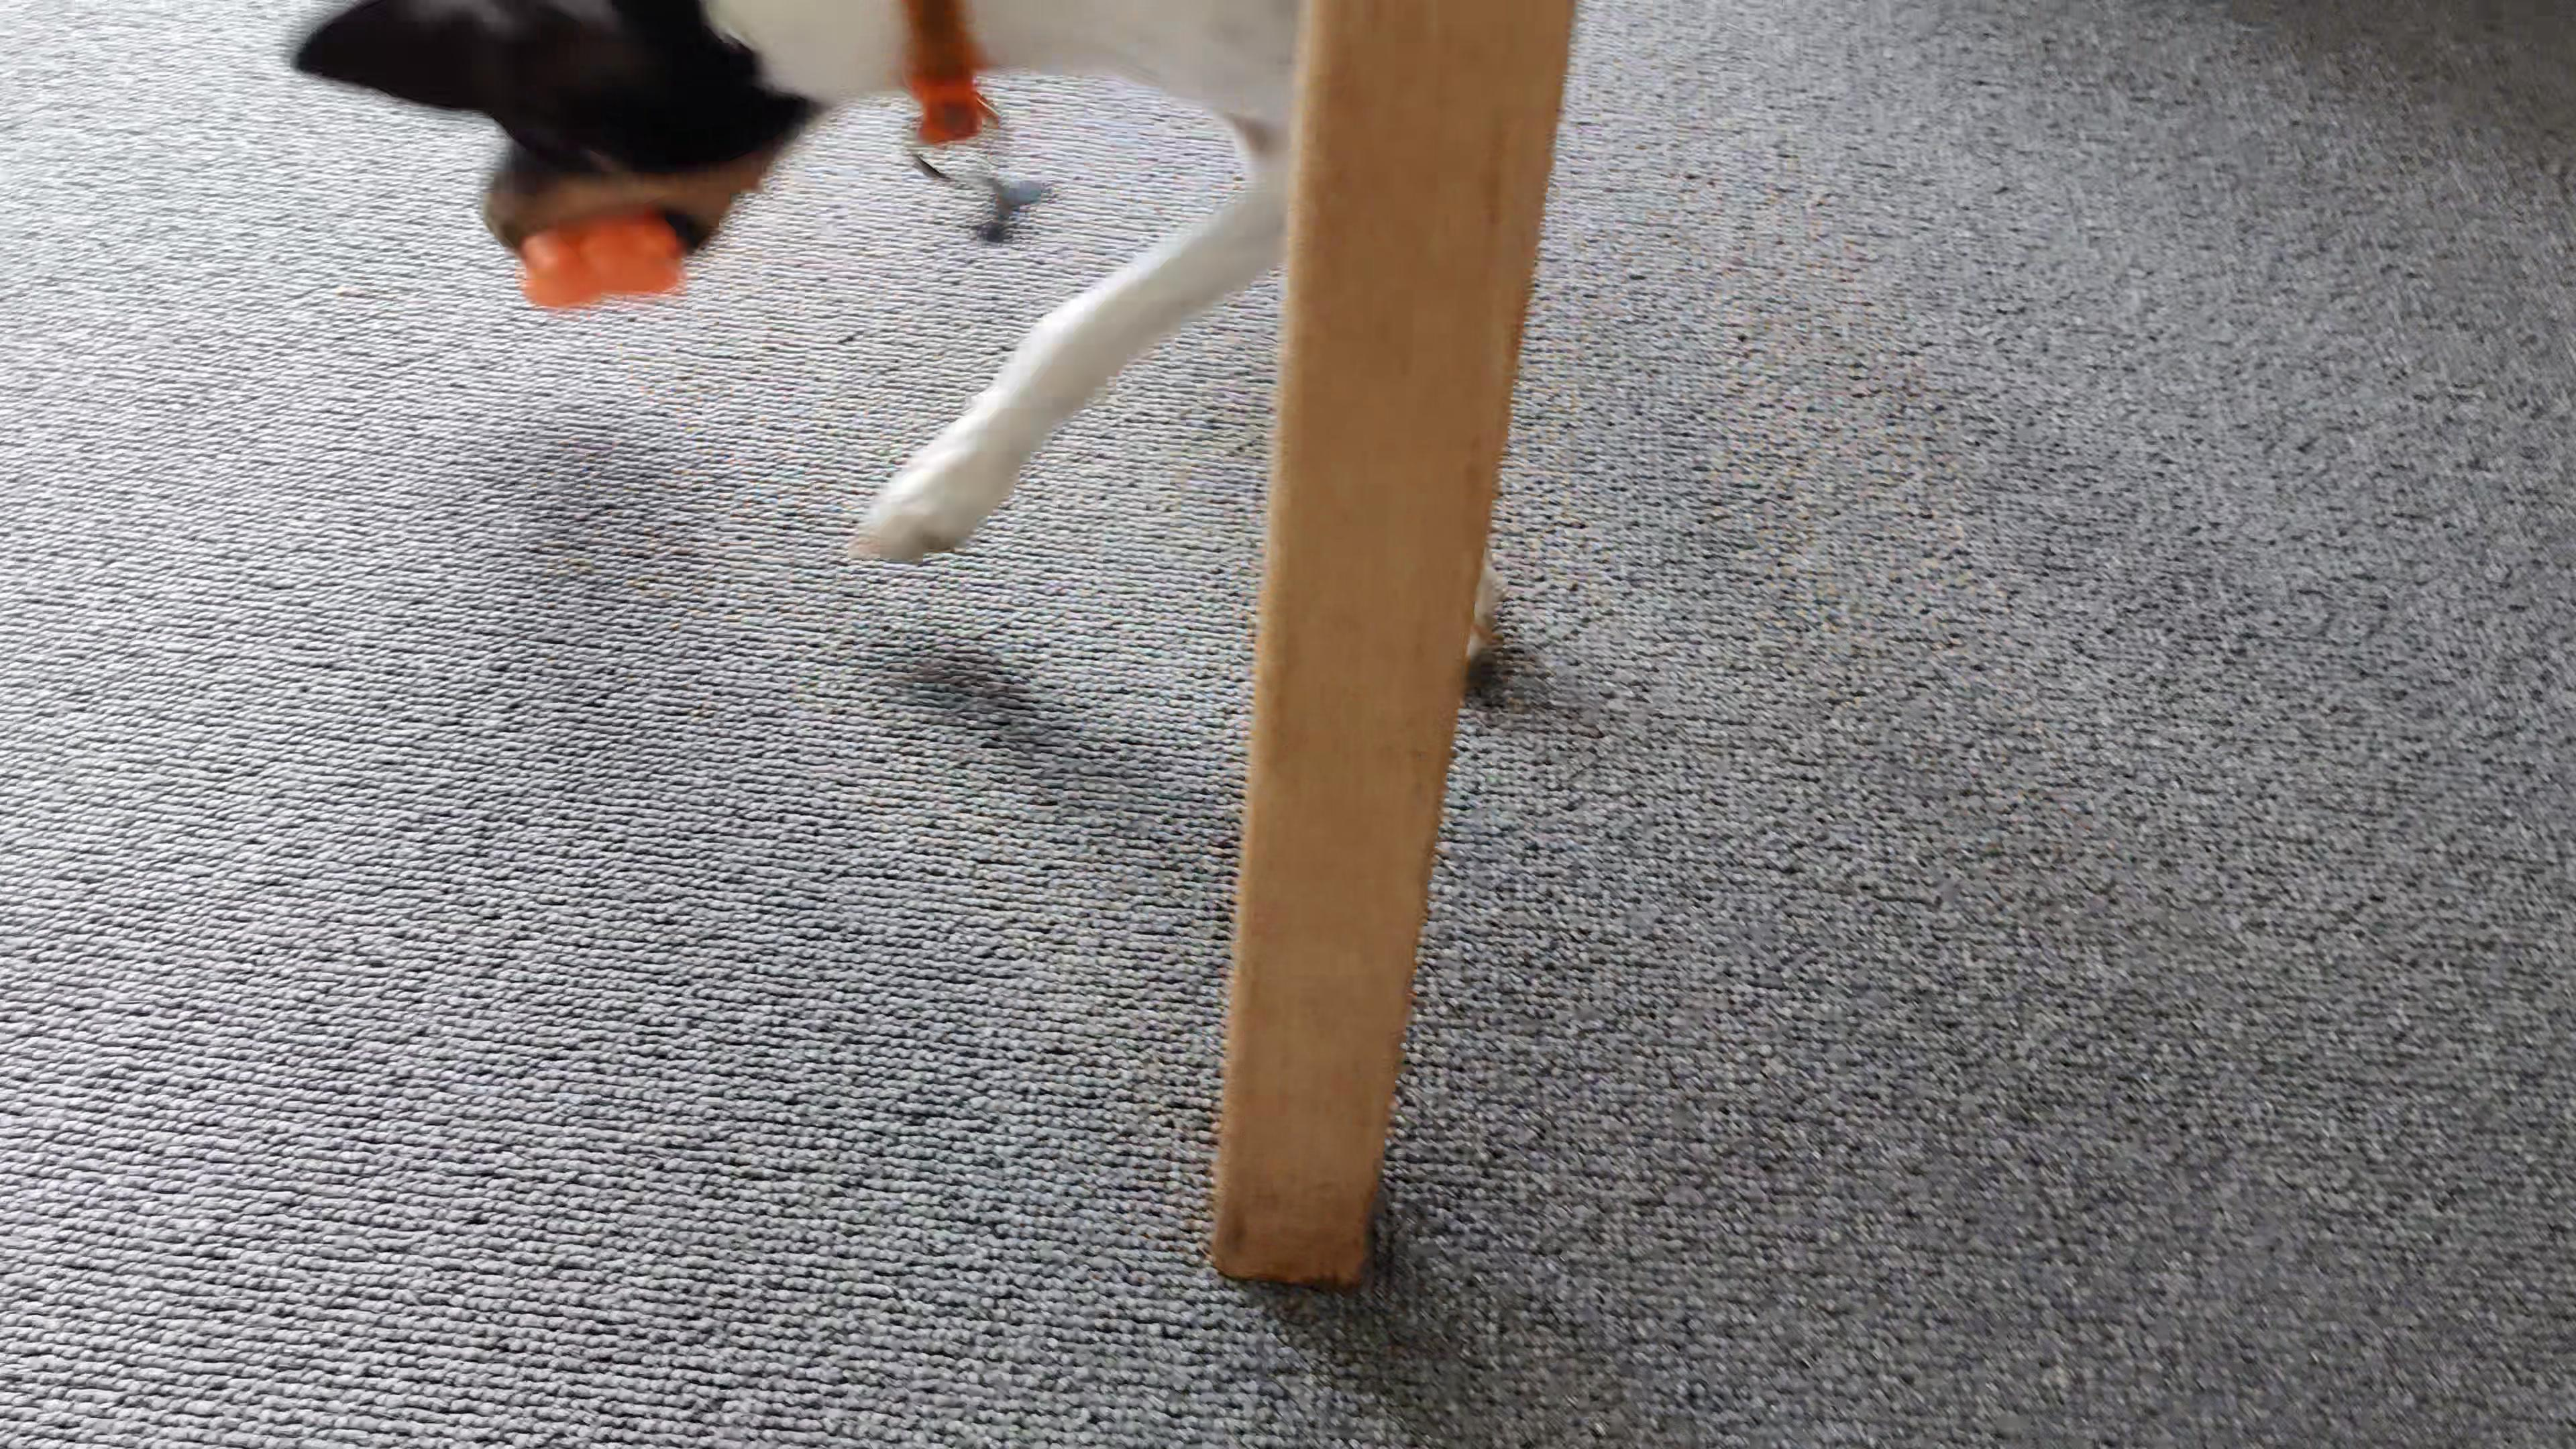Dog: (269, 0, 1537, 715)
